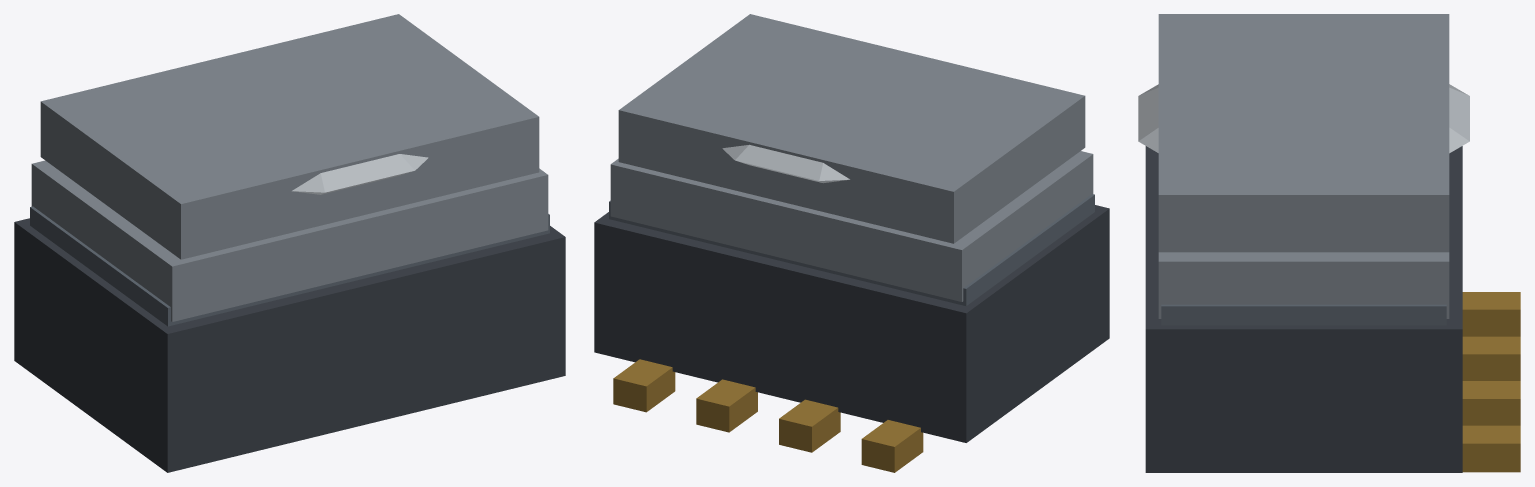
Rendered from droid-dura-plating-mk-2.glb.
3 views of the same model, side by side, from view 1: azimuth 30°, elevation 25°; view 2: azimuth 150°, elevation 25°; view 3: azimuth 270°, elevation 25° (orthographic). The views are drawn at different scales.
Parts seen in each view (by area): view 1: m; view 2: m; view 3: m.
Part boxes in pixels (x1,y1,x2,y2): m: (14,14,565,472); m: (594,14,1109,472); m: (1138,14,1520,472).
Size of the model in its own units: 0.1 by 0.0678 by 0.0804.
